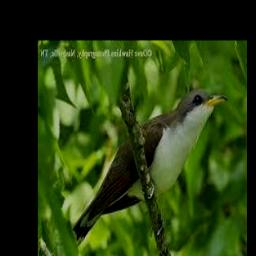Cuckoo: (47, 90, 227, 256)
